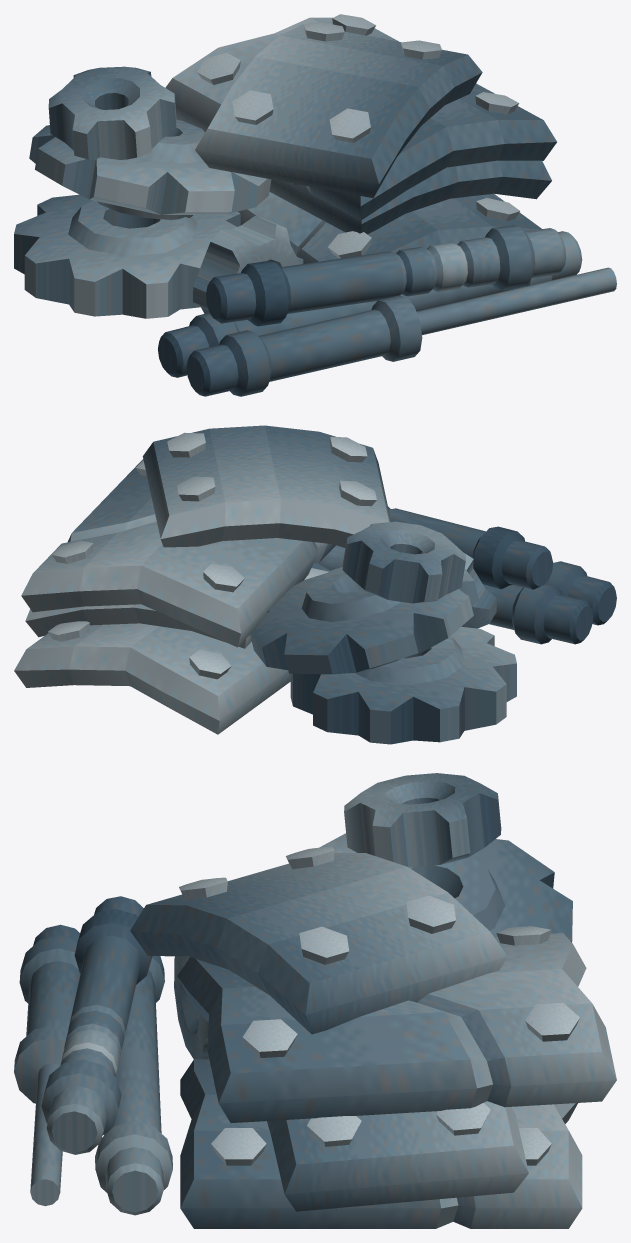
The model's file is Parts_Pile_Large.gltf.
The picture shows the model from 3 angles, top to bottom: view 1: azimuth 30°, elevation 25°; view 2: azimuth 150°, elevation 25°; view 3: azimuth 270°, elevation 25°; orthographic projection. The views are drawn at different scales.
Visible parts, largest first — view 1: Parts_Pile_Large; view 2: Parts_Pile_Large; view 3: Parts_Pile_Large.
Part boxes in pixels (x1,y1,x2,y2): Parts_Pile_Large: [14, 14, 616, 396]; Parts_Pile_Large: [14, 425, 616, 744]; Parts_Pile_Large: [14, 773, 616, 1228].
Size of the model in its own units: 1.74 by 0.7248 by 1.57.
1 material, 1 textured.
